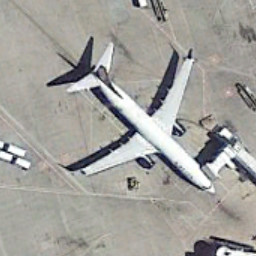Airplane: (42, 34, 226, 203)
